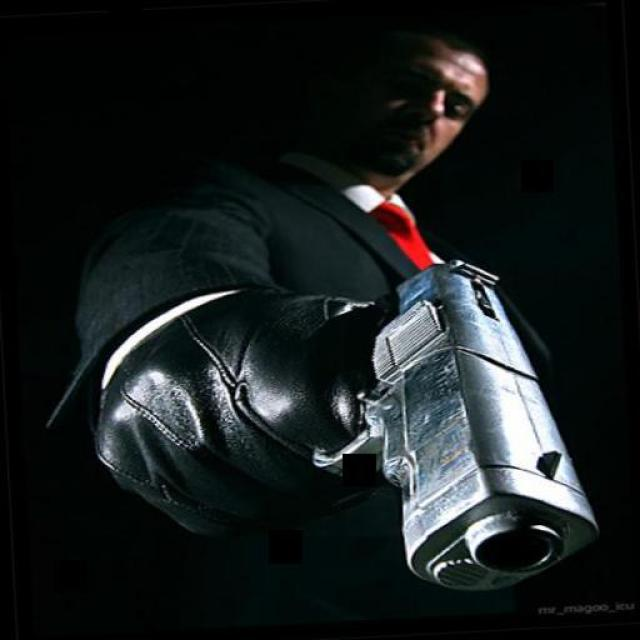gun: (271, 252, 590, 596)
